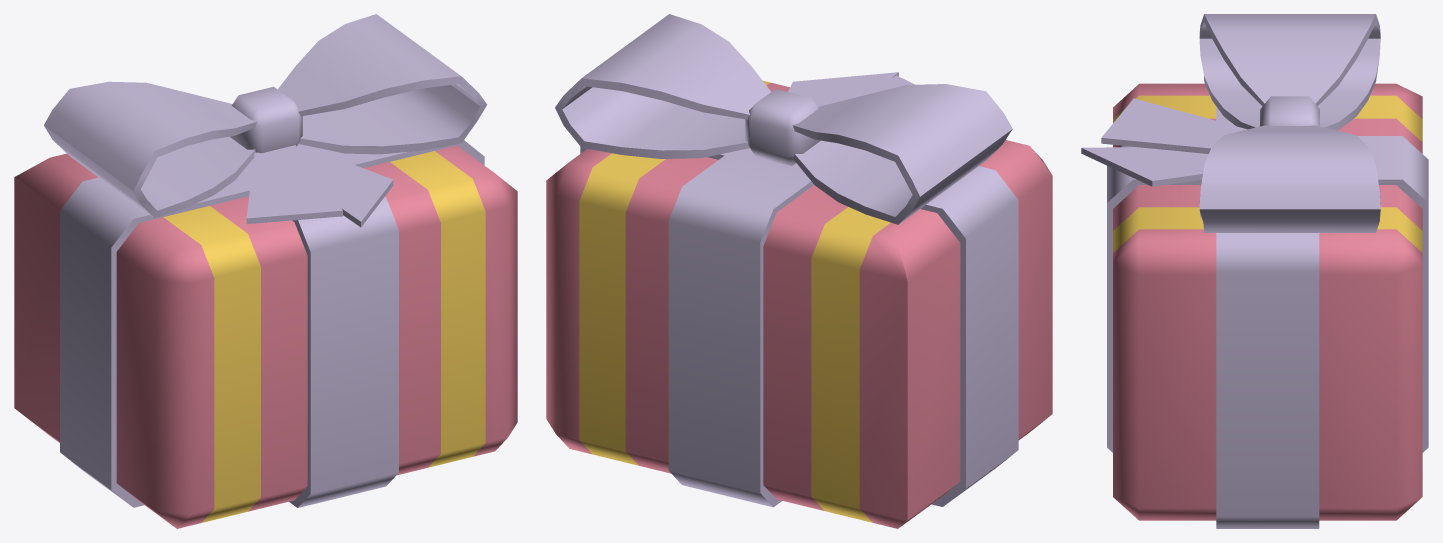
File: Gift_4_231109.glb
The picture shows the model from 3 angles, left to right: view 1: azimuth 30°, elevation 25°; view 2: azimuth 150°, elevation 25°; view 3: azimuth 270°, elevation 25°; orthographic projection. The views are drawn at different scales.
Parts seen in each view (by area): view 1: Gift_4; view 2: Gift_4; view 3: Gift_4.
Boxes of the visible parts, <box> form: Gift_4: <box>14,14,517,528</box>; Gift_4: <box>546,14,1052,528</box>; Gift_4: <box>1081,14,1428,528</box>.
Size of the model in its own units: 0.5952 by 0.5463 by 0.4753.
Materials: 1 (1 with a texture image).
